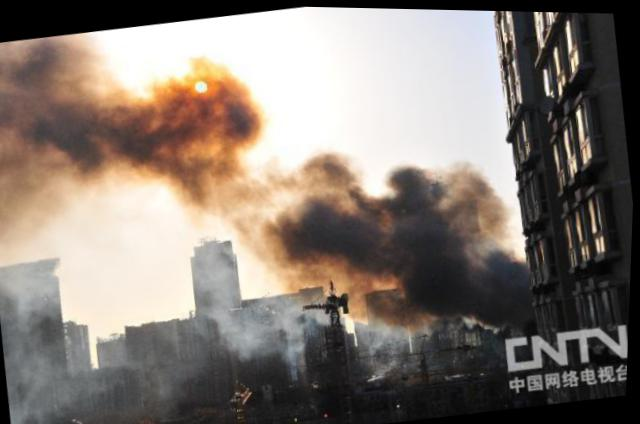smoke: (335, 154, 454, 320), (20, 32, 117, 195), (435, 178, 538, 311), (254, 140, 349, 283), (96, 60, 180, 200), (169, 120, 264, 234), (0, 38, 58, 207), (157, 53, 251, 131)
